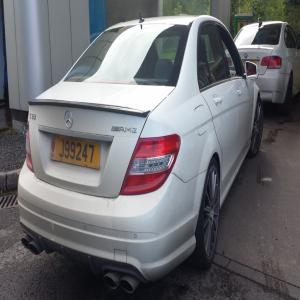Vehicle-registration-plate: (46, 127, 101, 175)
